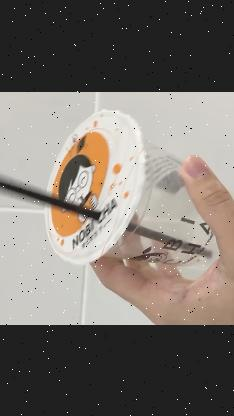Others: (44, 108, 220, 264)
